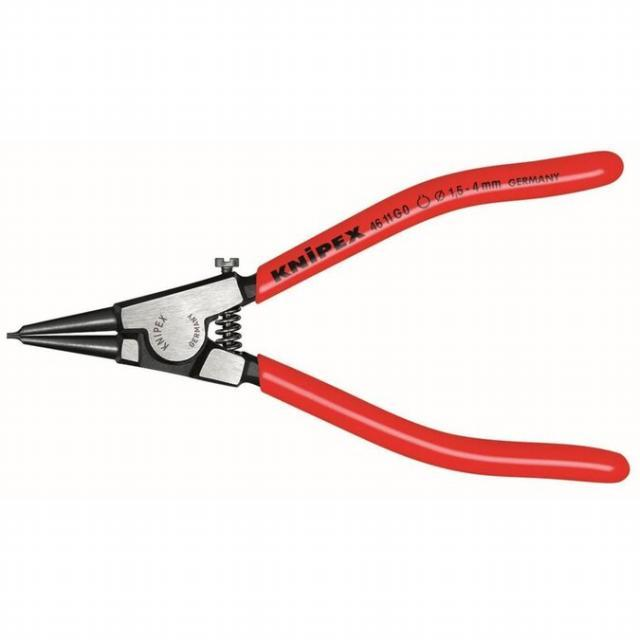pliers: (2, 145, 636, 489)
